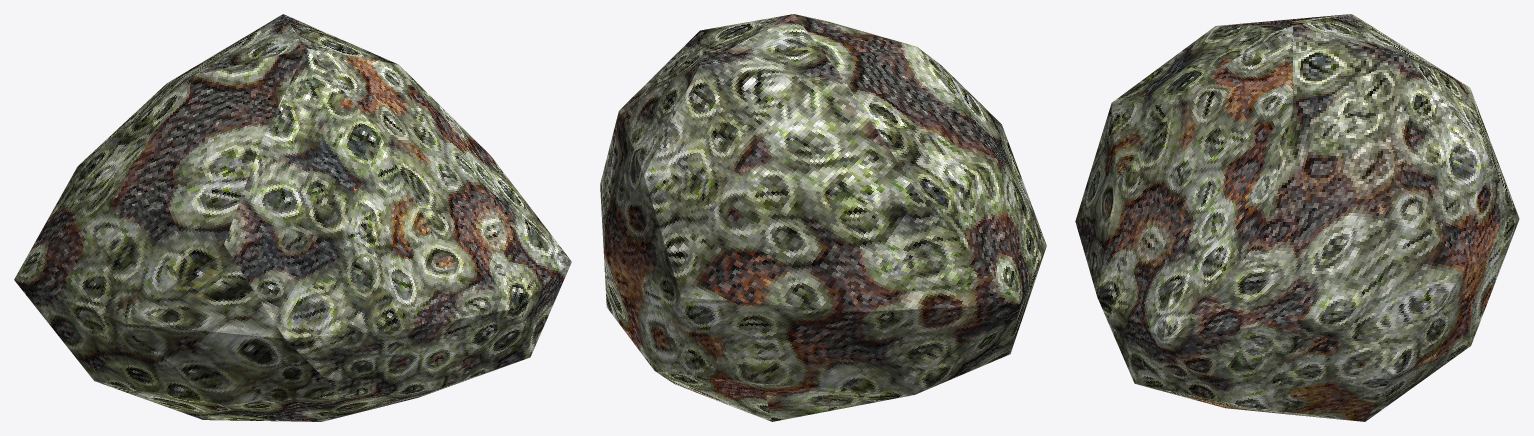
File: HongoFlotante.glb
3 views of the same model, side by side, from view 1: azimuth 30°, elevation 25°; view 2: azimuth 150°, elevation 25°; view 3: azimuth 270°, elevation 25° (orthographic). The views are drawn at different scales.
Visible parts, largest first — view 1: Icosphere; view 2: Icosphere; view 3: Icosphere.
Part boxes in pixels (x1,y1,x2,y2): Icosphere: [14, 14, 571, 421]; Icosphere: [600, 14, 1046, 421]; Icosphere: [1075, 14, 1519, 421].
Size of the model in its own units: 0.2594 by 0.1996 by 0.2176.
1 material, 1 textured.
